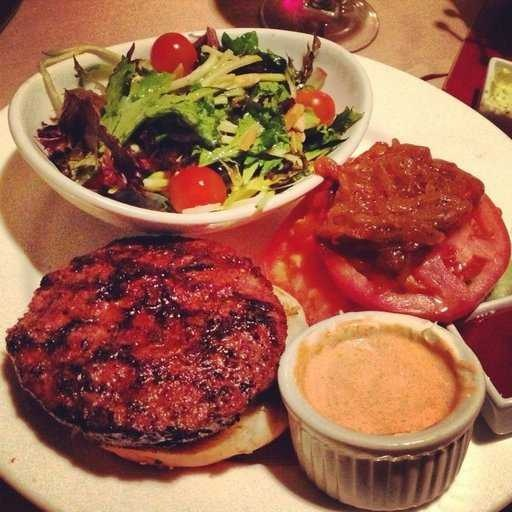hamburger: (28, 210, 306, 454)
